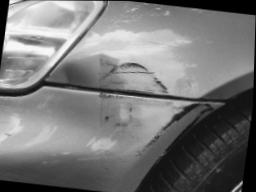Bumper: (1, 84, 223, 176)
Fender: (46, 49, 228, 99)
